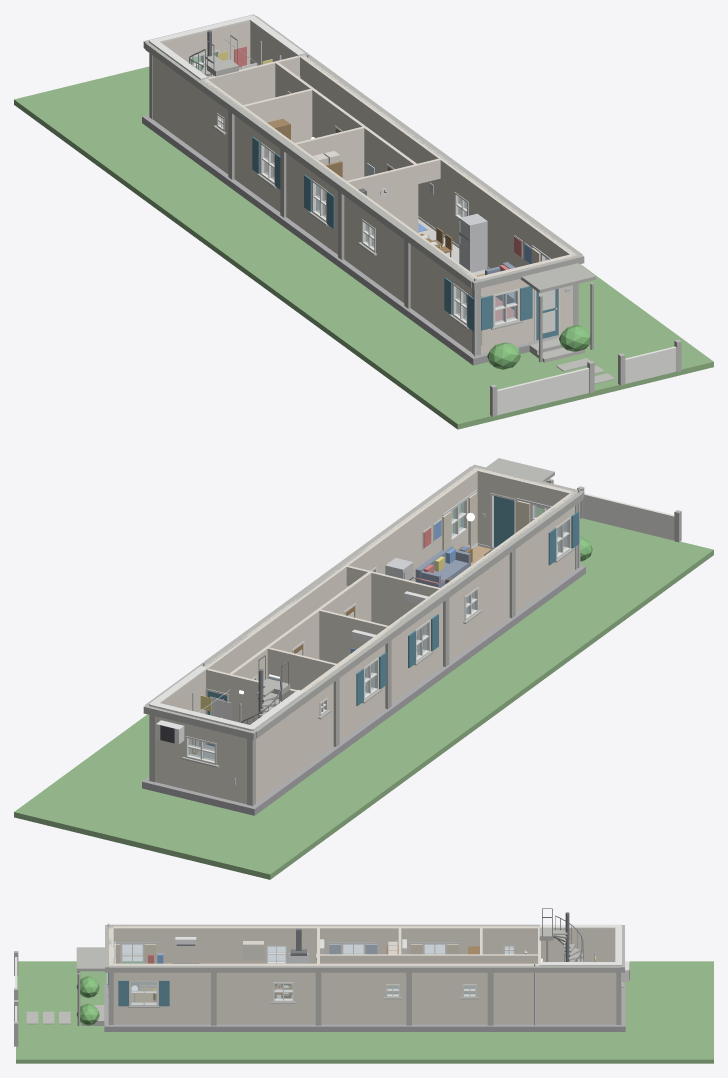
The model's file is house_tube_interior.glb.
3 renders of one model, top to bottom at view 1: azimuth 30°, elevation 25°; view 2: azimuth 150°, elevation 25°; view 3: azimuth 270°, elevation 25°, orthographic. The views are drawn at different scales.
Visible parts, largest first — view 1: grass, wall, concrete, trim, foundation, door, stone, metal, green, glass, wood; view 2: grass, wall, concrete, trim, foundation, door, glass, curtain_warm, sofa, metal, white, stone; view 3: wall, grass, concrete, foundation, trim, glass, stone, green, steel_dark, door, cabinet, curtain_warm (+5 smaller).
Part boxes in pixels (x1,y1,x2,y2): grass: [14, 53, 713, 429]; wall: [153, 21, 576, 353]; concrete: [143, 14, 595, 362]; trim: [149, 15, 676, 415]; foundation: [142, 114, 560, 365]; door: [252, 137, 557, 340]; stone: [213, 125, 681, 416]; metal: [213, 39, 570, 356]; green: [487, 325, 590, 369]; glass: [191, 52, 547, 323]; wood: [267, 119, 466, 302]; grass: [14, 504, 713, 879]; wall: [155, 467, 576, 804]; concrete: [143, 458, 584, 805]; trim: [149, 493, 674, 764]; foundation: [142, 565, 585, 815]; door: [207, 496, 579, 746]; glass: [189, 502, 566, 760]; curtain_warm: [371, 492, 563, 687]; sofa: [415, 546, 470, 587]; metal: [173, 489, 580, 784]; white: [156, 513, 485, 744]; stone: [182, 479, 681, 767]; wall: [109, 926, 616, 1024]; grass: [16, 961, 713, 1063]; concrete: [76, 924, 624, 1025]; foundation: [104, 983, 625, 1031]; trim: [15, 924, 621, 1021]; glass: [122, 945, 513, 1003]; stone: [14, 951, 623, 1046]; green: [76, 976, 99, 1025]; steel_dark: [290, 908, 583, 961]; door: [108, 972, 169, 1006]; cabinet: [131, 941, 397, 990]; curtain_warm: [113, 944, 458, 963].
Bounding box in the file's own units: 10 × 4.37 × 30.09.
